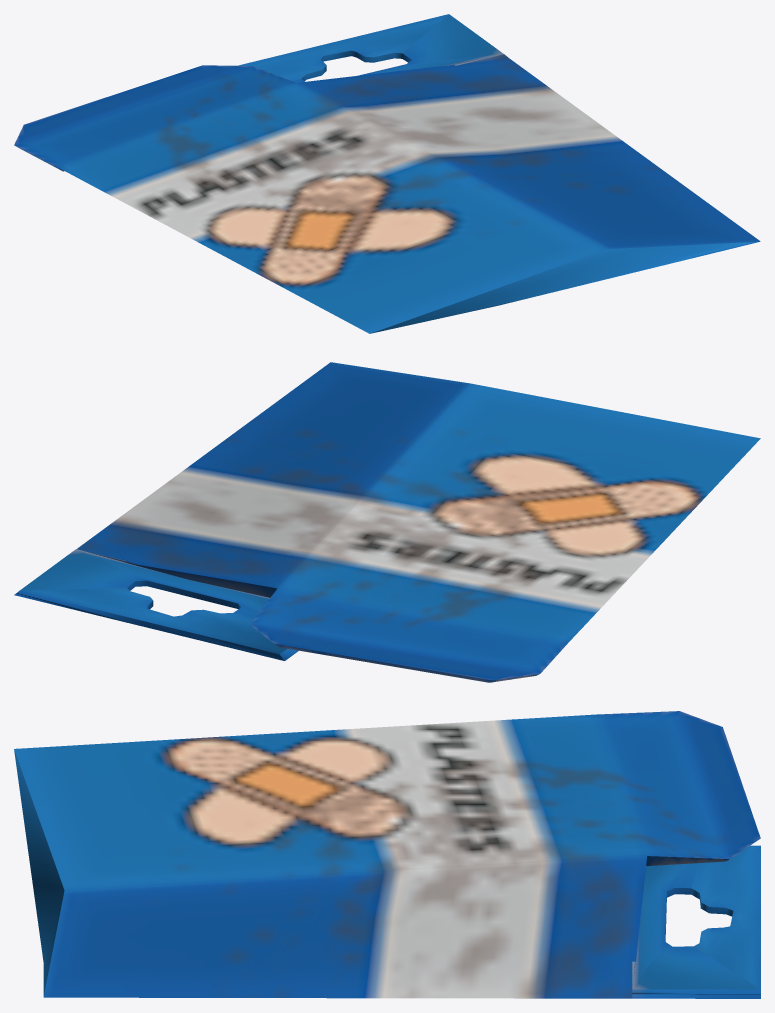
File: BandAidBox.fbx
3 renders of one model, top to bottom at view 1: azimuth 30°, elevation 25°; view 2: azimuth 150°, elevation 25°; view 3: azimuth 270°, elevation 25°, orthographic. The views are drawn at different scales.
Visible parts, largest first — view 1: BandAidBox; view 2: BandAidBox; view 3: BandAidBox.
Part boxes in pixels (x1=…): BandAidBox: x1=14, y1=14, x2=760, y2=333; BandAidBox: x1=14, y1=362, x2=760, y2=682; BandAidBox: x1=14, y1=711, x2=760, y2=998.
Size of the model in its own units: 0.1772 by 0.00794 by 0.2063.
